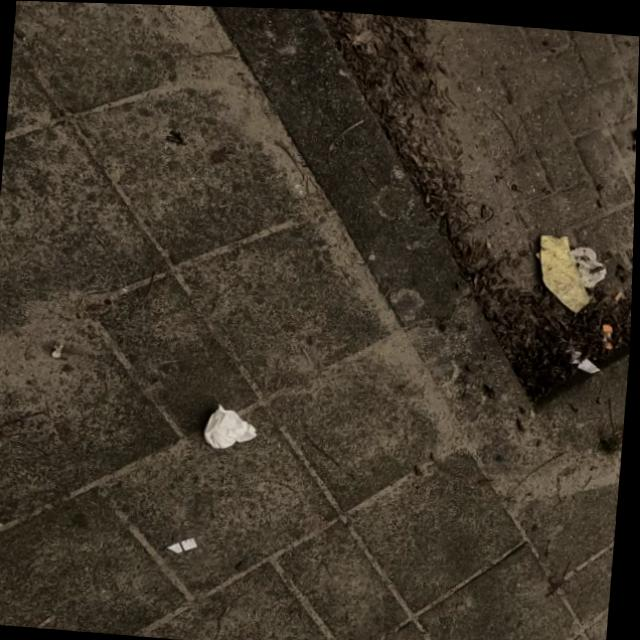Paper: (532, 229, 597, 310), (204, 400, 265, 450), (569, 241, 611, 286), (565, 343, 604, 369)
Plastic: (602, 319, 617, 345)
